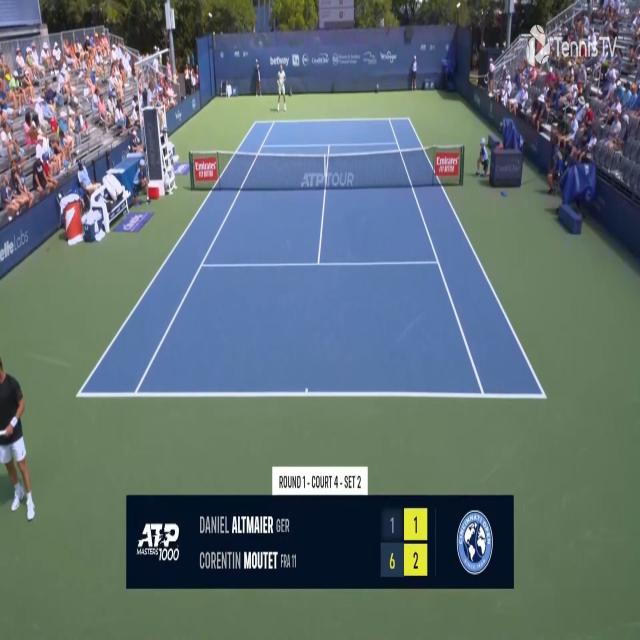tennis-player: (0, 343, 39, 526), (275, 64, 288, 113)
